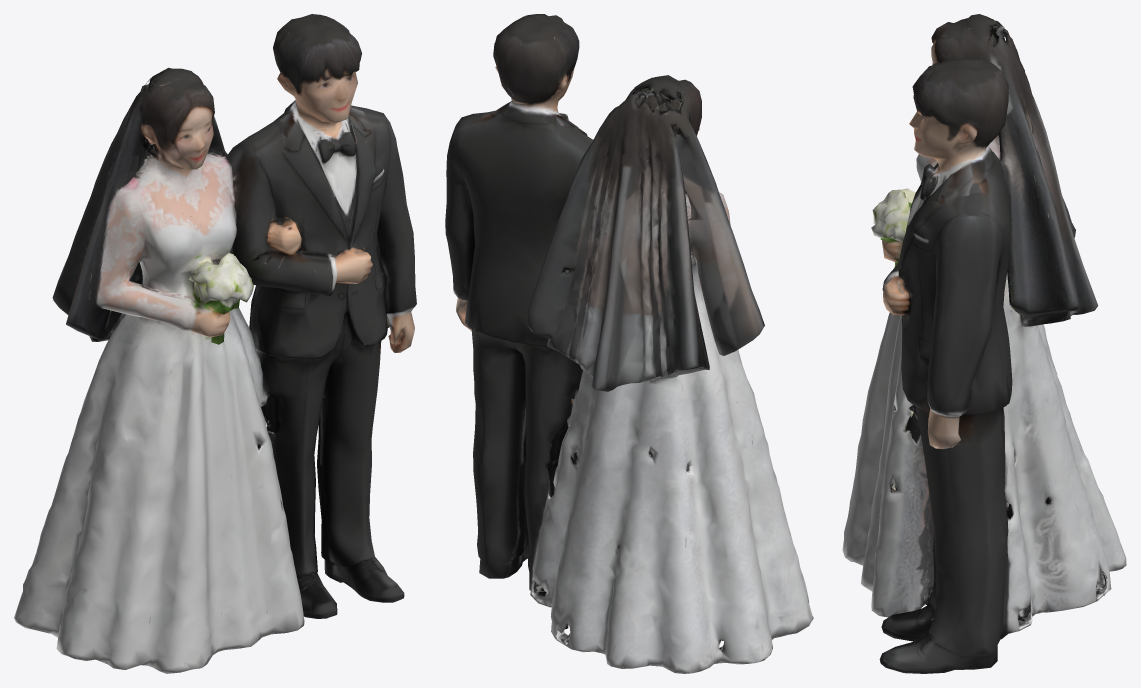
File: model_019b2f35-c570-70fc-8172-2bcbb4997ec6.glb
3 views of the same model, side by side, from view 1: azimuth 30°, elevation 25°; view 2: azimuth 150°, elevation 25°; view 3: azimuth 270°, elevation 25° (orthographic). The views are drawn at different scales.
Bounding box in the file's own units: 1.27 × 1.92 × 0.848.
Materials: 1 (1 with a texture image).
